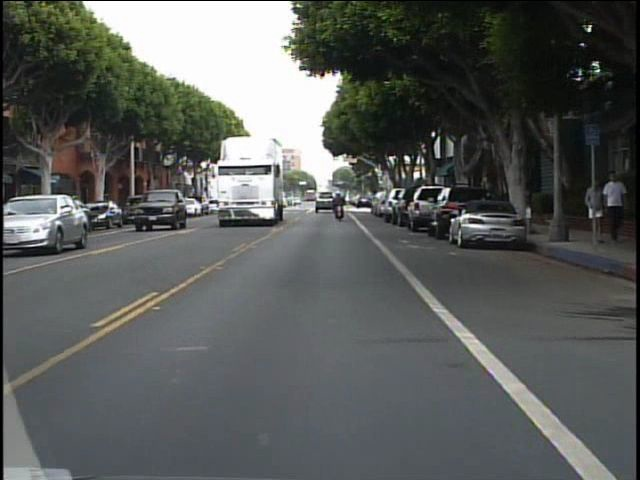person: (601, 170, 626, 243), (580, 175, 602, 240), (330, 190, 350, 221)
